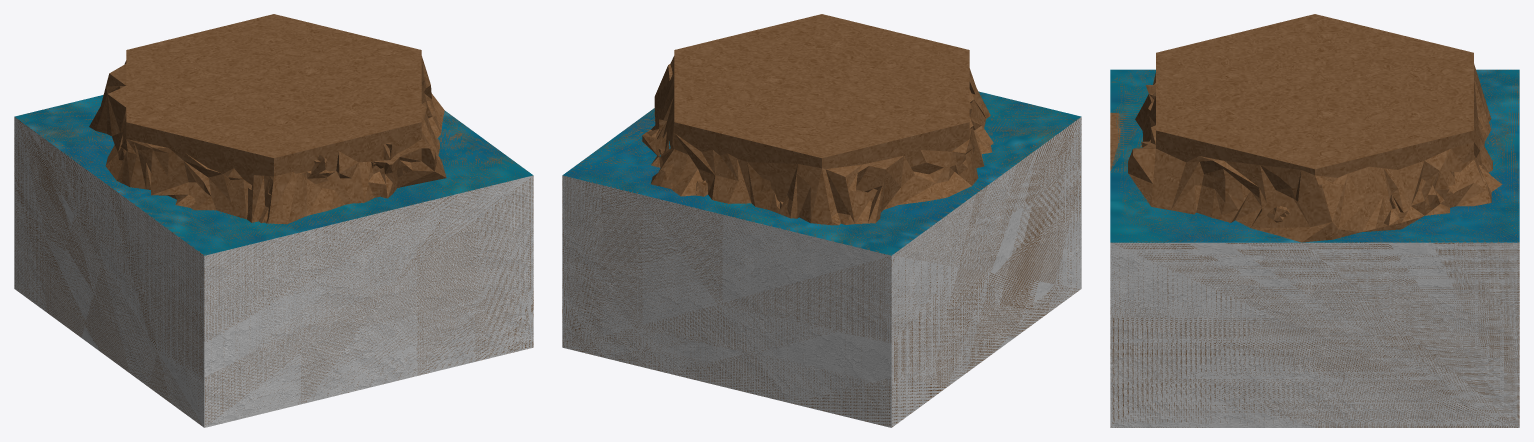
The model's file is 寶箱台.dae.
3 renders of one model, left to right at view 1: azimuth 30°, elevation 25°; view 2: azimuth 150°, elevation 25°; view 3: azimuth 270°, elevation 25°, orthographic. The views are drawn at different scales.
Visible parts, largest first — view 1: SketchUp (×3); view 2: SketchUp (×3); view 3: SketchUp (×3).
Part boxes in pixels (x1,y1,x2,y2): SketchUp (×3): (14,14,533,427); SketchUp (×3): (562,14,1081,427); SketchUp (×3): (1110,14,1519,427).
Bounding box in the file's own units: 39.37 × 39.37 × 26.53.
